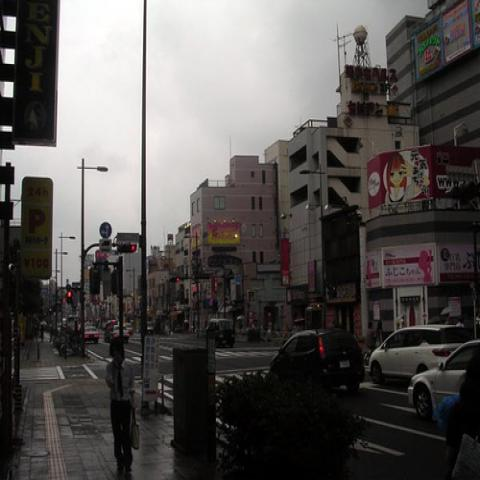car: (269, 328, 366, 394), (407, 340, 480, 422), (369, 324, 470, 383), (206, 316, 236, 348), (104, 320, 130, 343), (85, 326, 100, 344), (146, 321, 156, 334), (124, 322, 133, 333)
